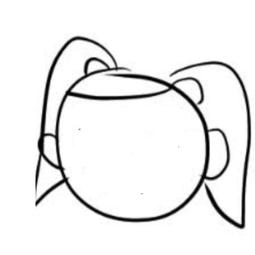ear: (196, 128, 234, 177), (34, 131, 69, 167)
